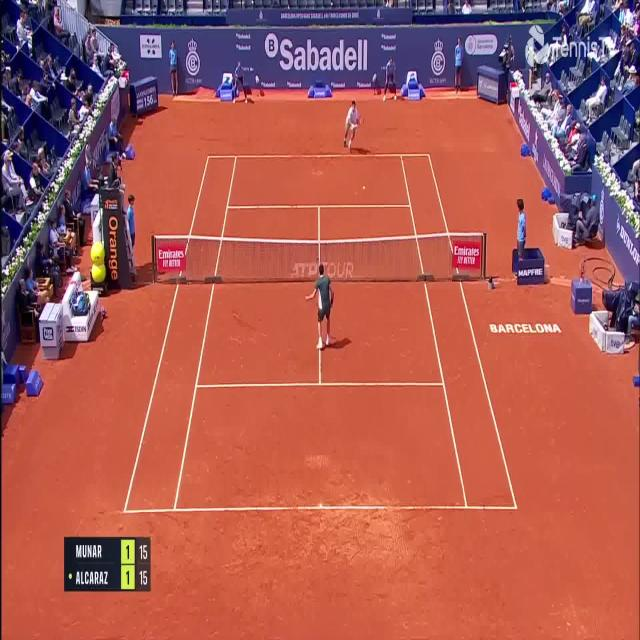bottom-dead-zone: (173, 383, 468, 512)
court: (123, 154, 518, 514)
left-doubles-alley: (123, 155, 237, 514)
left-service-box: (195, 204, 322, 388)
net: (151, 229, 487, 285)
right-doubles-alley: (400, 154, 518, 510)
right-service-box: (318, 205, 445, 385)
top-dead-zone: (227, 154, 412, 208)
